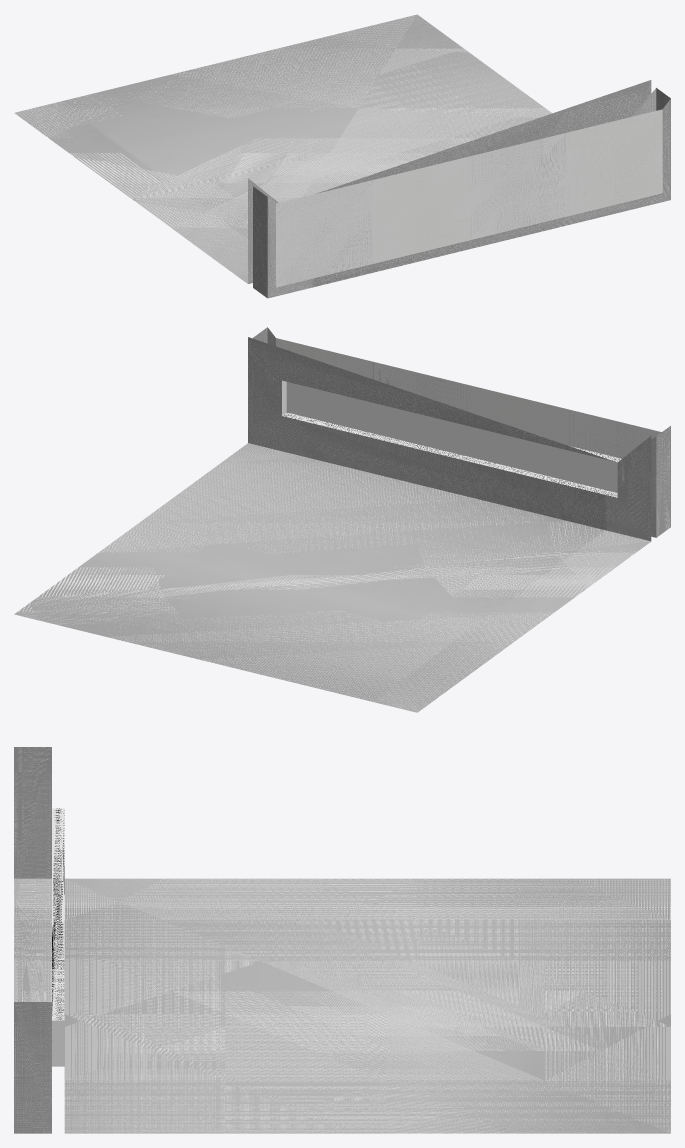
3 views of the same model, one above another, from view 1: azimuth 30°, elevation 25°; view 2: azimuth 150°, elevation 25°; view 3: azimuth 270°, elevation 25° (orthographic). The views are drawn at different scales.
Size of the model in its own units: 0.9683 by 0.2433 by 1.05.
